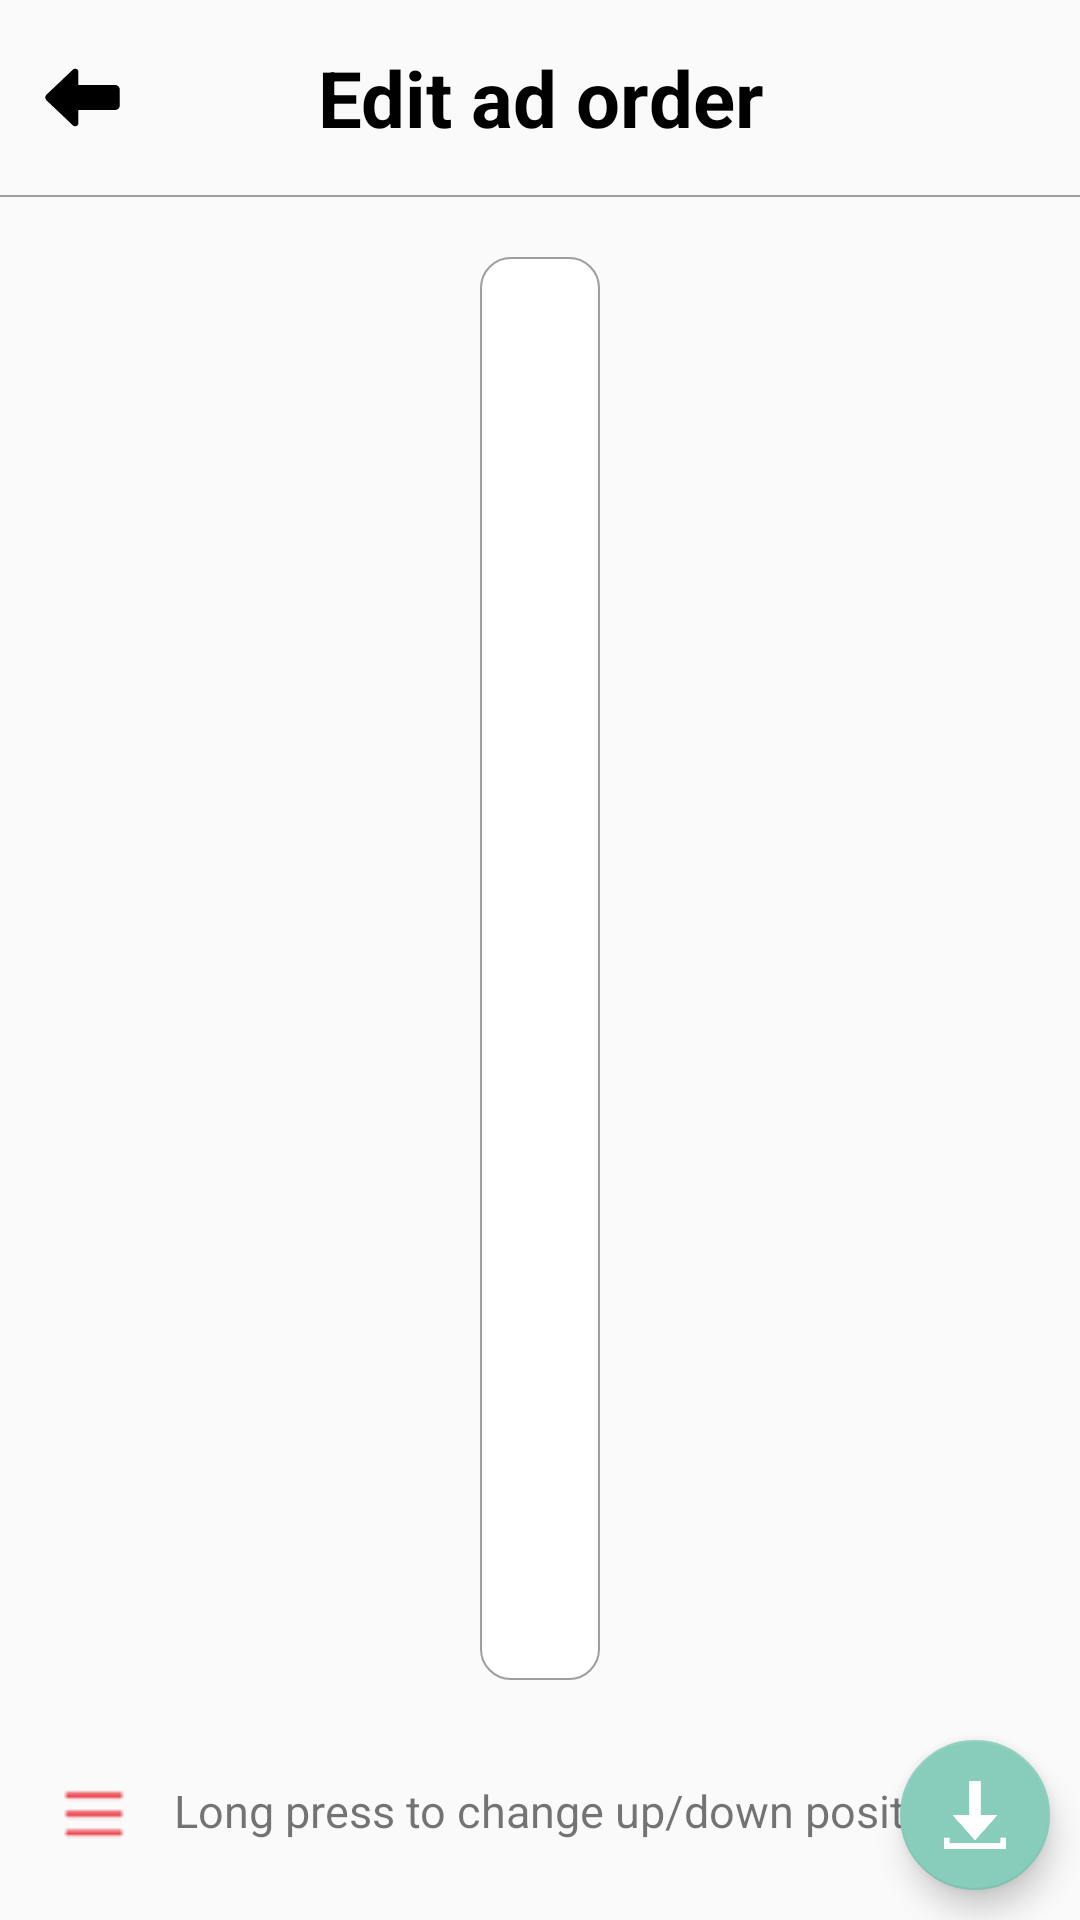

Named icons in this screenshot (1080w x 1920h) and their centers, (x,y):
back: (82,97)
order edit: (94,1814)
save: (975,1815)
